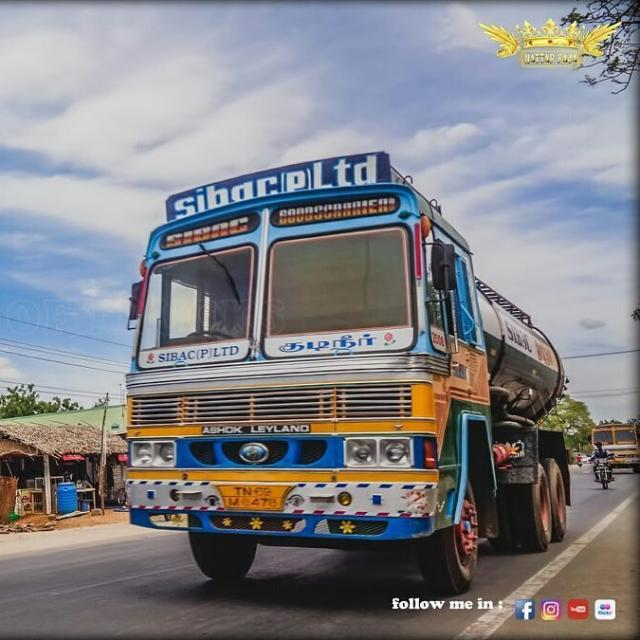Truck: (122, 146, 578, 594), (588, 422, 640, 470)
